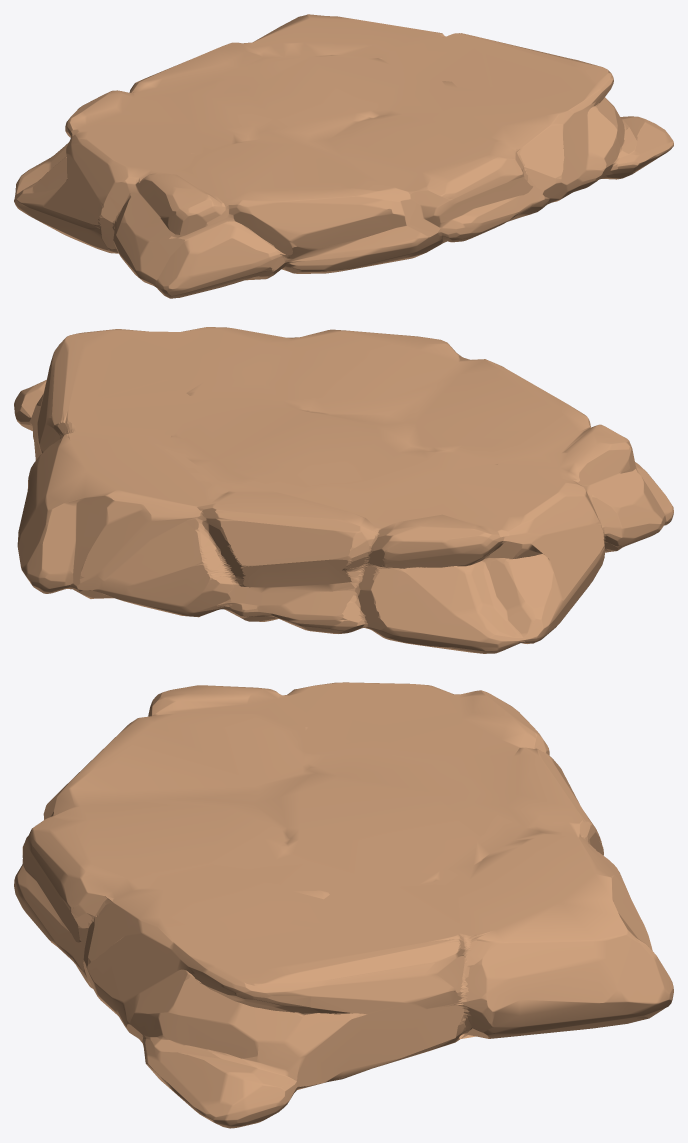
The picture shows the model from 3 angles, top to bottom: view 1: azimuth 30°, elevation 25°; view 2: azimuth 150°, elevation 25°; view 3: azimuth 270°, elevation 25°; orthographic projection. The views are drawn at different scales.
Visible parts, largest first — view 1: Mesh_13_LOD0; view 2: Mesh_13_LOD0; view 3: Mesh_13_LOD0.
Boxes of the visible parts, x1=… form: Mesh_13_LOD0: x1=14, y1=14, x2=673, y2=298; Mesh_13_LOD0: x1=14, y1=327, x2=673, y2=653; Mesh_13_LOD0: x1=14, y1=682, x2=673, y2=1128.
Size of what is drawn, in the model's own units: 3972 by 654 by 3038.
